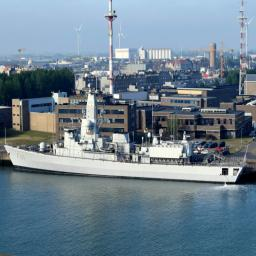Fragata: (5, 76, 250, 188)
